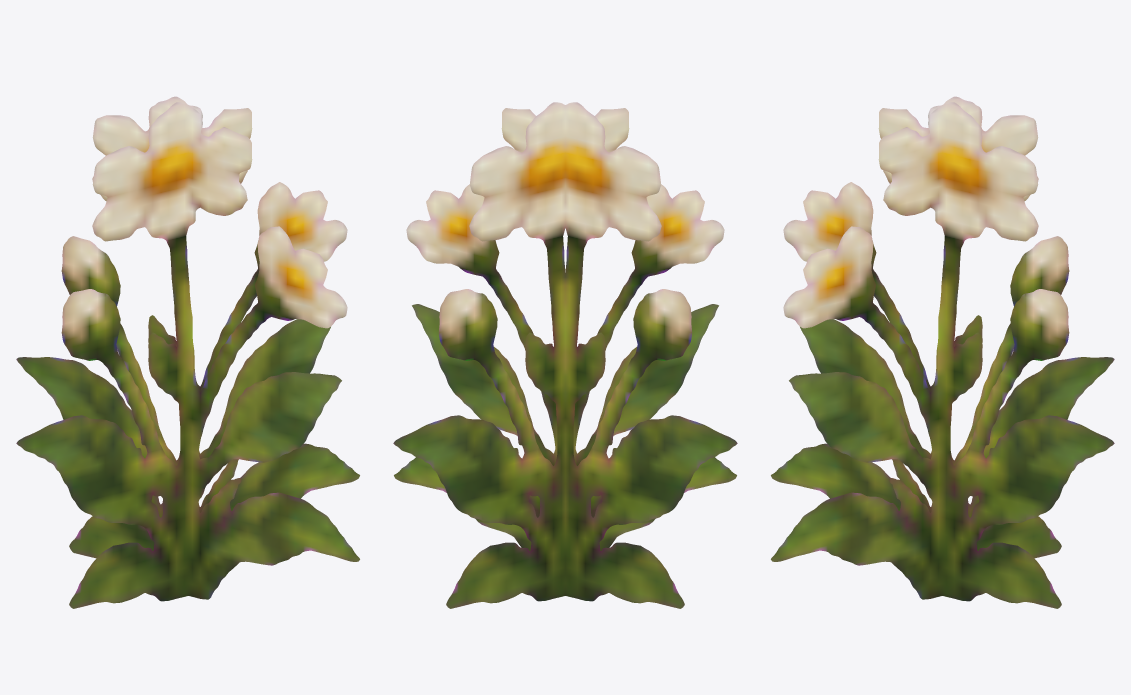
Rendered from h_racines_fleur.glb.
3 views of the same model, side by side, from view 1: azimuth 30°, elevation 25°; view 2: azimuth 150°, elevation 25°; view 3: azimuth 270°, elevation 25° (orthographic).
Visible parts, largest first — view 1: h_racines_fleur; view 2: h_racines_fleur; view 3: h_racines_fleur.
Part boxes in pixels (bbox=[...]): h_racines_fleur: bbox=[16, 96, 359, 608]; h_racines_fleur: bbox=[393, 102, 737, 608]; h_racines_fleur: bbox=[771, 96, 1114, 608].
Bounding box in the file's own units: 0.2347 × 0.32 × 0.2032.
1 material, 1 textured.
